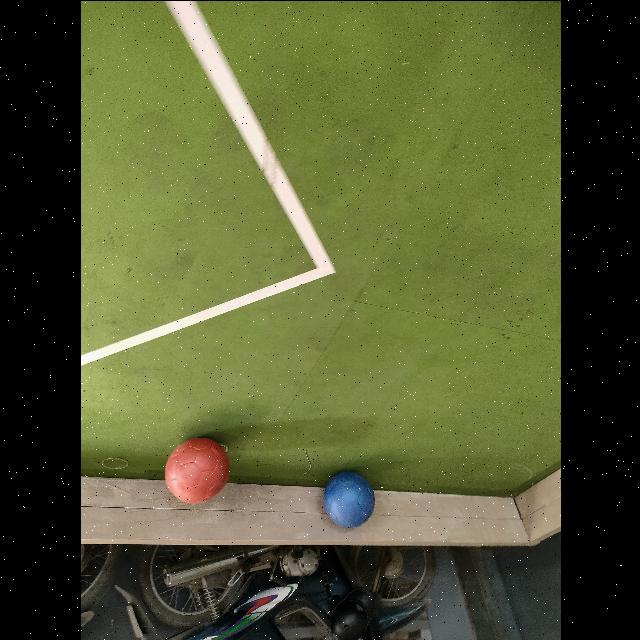B: (323, 471, 373, 527)
R: (164, 437, 228, 503)
